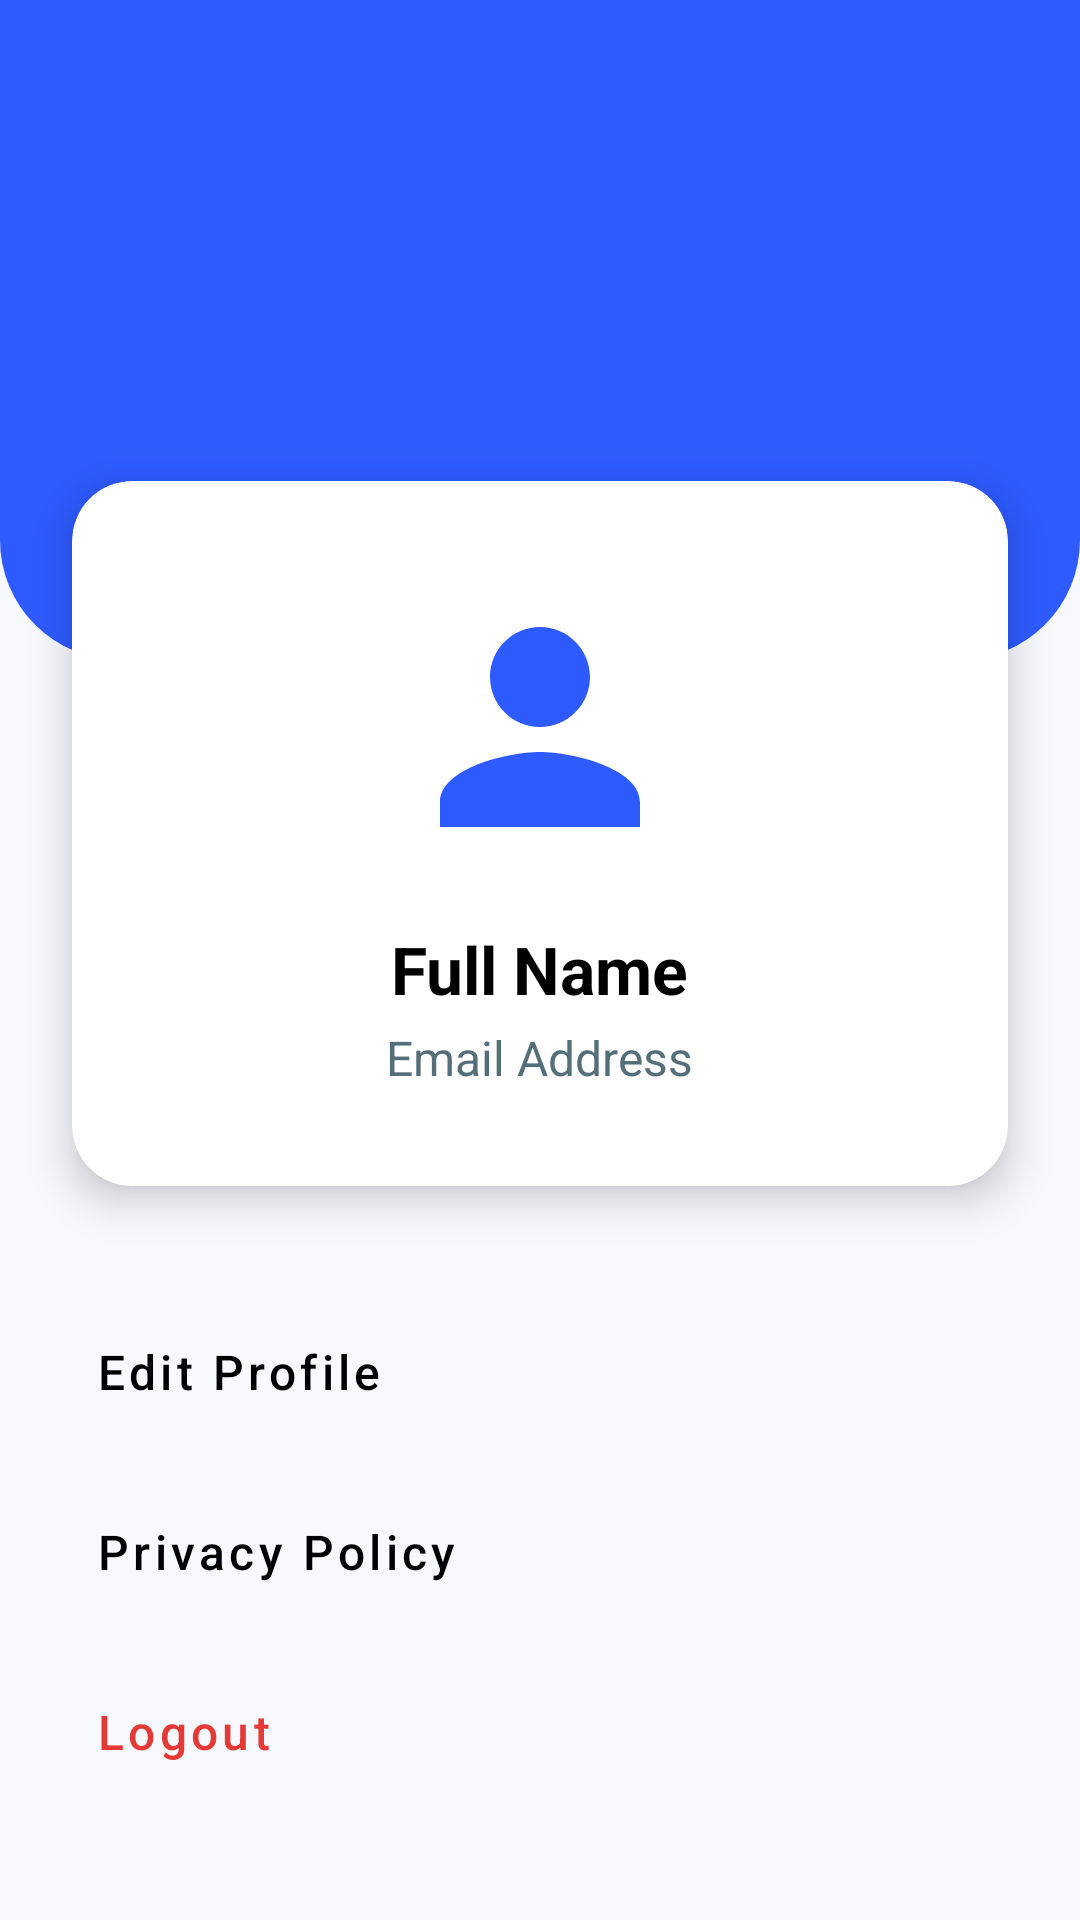

Screen size 1080 × 1920. Icon name, then its center in pixels as (x=x, y=y):
Profile: (x=540, y=727)
